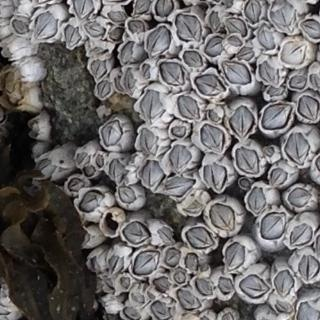Barnacle: (139, 91, 166, 123), (270, 0, 296, 33), (260, 210, 289, 239), (2, 64, 24, 102), (229, 106, 253, 140), (210, 202, 236, 233), (286, 132, 310, 164), (263, 103, 292, 129), (144, 26, 170, 55), (34, 11, 60, 40), (176, 14, 201, 44), (239, 274, 270, 298), (194, 73, 225, 97), (201, 124, 225, 154), (221, 60, 251, 84), (131, 249, 159, 274), (203, 161, 225, 192), (124, 222, 151, 247), (183, 226, 212, 249), (78, 189, 104, 214), (170, 144, 195, 170), (141, 161, 164, 189), (282, 41, 306, 67), (297, 255, 320, 282), (236, 147, 259, 174), (100, 119, 122, 146), (139, 128, 158, 159), (225, 242, 245, 271), (160, 62, 184, 86), (178, 95, 201, 120), (274, 270, 293, 298), (297, 95, 319, 119), (288, 186, 313, 207), (258, 22, 276, 51), (165, 178, 193, 196), (259, 61, 280, 85), (248, 187, 266, 214), (290, 223, 311, 246), (72, 0, 94, 21), (178, 290, 199, 311), (150, 300, 172, 320), (301, 17, 320, 39), (65, 23, 81, 49), (297, 302, 320, 320), (109, 159, 125, 184), (227, 15, 247, 35), (184, 50, 204, 69), (205, 36, 224, 56), (107, 254, 125, 275), (245, 0, 261, 23), (153, 275, 173, 293), (90, 60, 106, 82), (119, 43, 134, 66), (195, 279, 213, 297), (118, 187, 136, 205), (13, 17, 31, 35), (0, 293, 14, 316), (158, 224, 173, 245), (165, 248, 181, 267), (270, 168, 286, 187), (185, 251, 200, 271), (123, 68, 135, 93), (237, 47, 257, 62), (86, 22, 107, 36), (155, 0, 174, 15), (108, 10, 128, 24), (38, 160, 55, 176), (289, 75, 307, 90), (128, 19, 144, 35), (135, 0, 151, 16), (218, 278, 233, 295), (68, 178, 85, 193), (109, 27, 126, 42), (209, 10, 221, 30), (98, 80, 112, 97), (171, 125, 187, 139), (186, 200, 203, 213), (121, 308, 139, 320), (88, 47, 108, 57), (85, 231, 98, 246), (208, 107, 221, 122), (275, 302, 291, 314), (131, 293, 143, 309), (310, 72, 320, 91), (76, 151, 89, 165), (228, 36, 243, 48), (89, 256, 100, 272), (268, 86, 284, 97), (114, 75, 123, 93), (142, 63, 152, 79), (120, 276, 132, 289), (32, 118, 41, 134), (4, 41, 14, 55), (83, 166, 94, 177), (176, 271, 185, 283), (266, 146, 275, 158), (96, 154, 104, 167), (222, 313, 234, 320), (224, 0, 233, 7)
